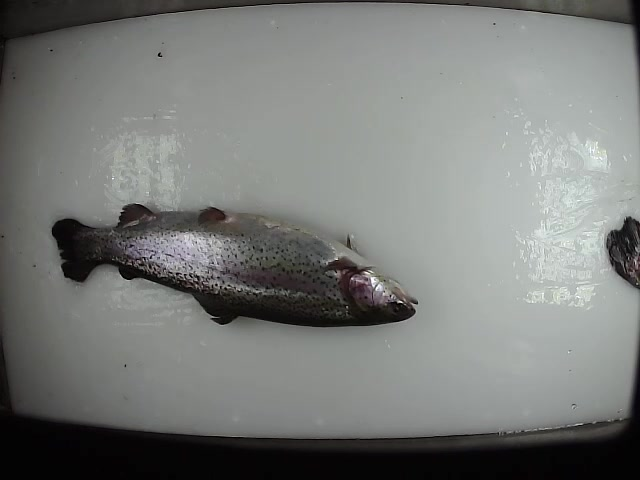fish: (49, 198, 420, 332)
